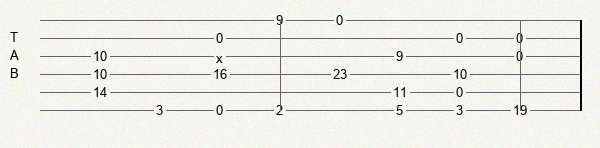0: (216, 31, 227, 45), (216, 103, 227, 117), (336, 13, 347, 27), (456, 31, 467, 45), (456, 85, 467, 99), (516, 49, 527, 63), (516, 31, 527, 45)
10: (93, 67, 111, 81), (93, 49, 111, 63), (453, 67, 471, 81)
11: (393, 85, 411, 99)
14: (93, 85, 111, 99)
16: (213, 67, 231, 81)
19: (513, 103, 531, 117)
2: (276, 103, 287, 117)
23: (333, 67, 351, 81)
3: (156, 103, 167, 117), (456, 103, 467, 117)
5: (396, 103, 407, 117)
9: (276, 13, 287, 27), (396, 49, 407, 63)
x: (216, 51, 227, 62)
